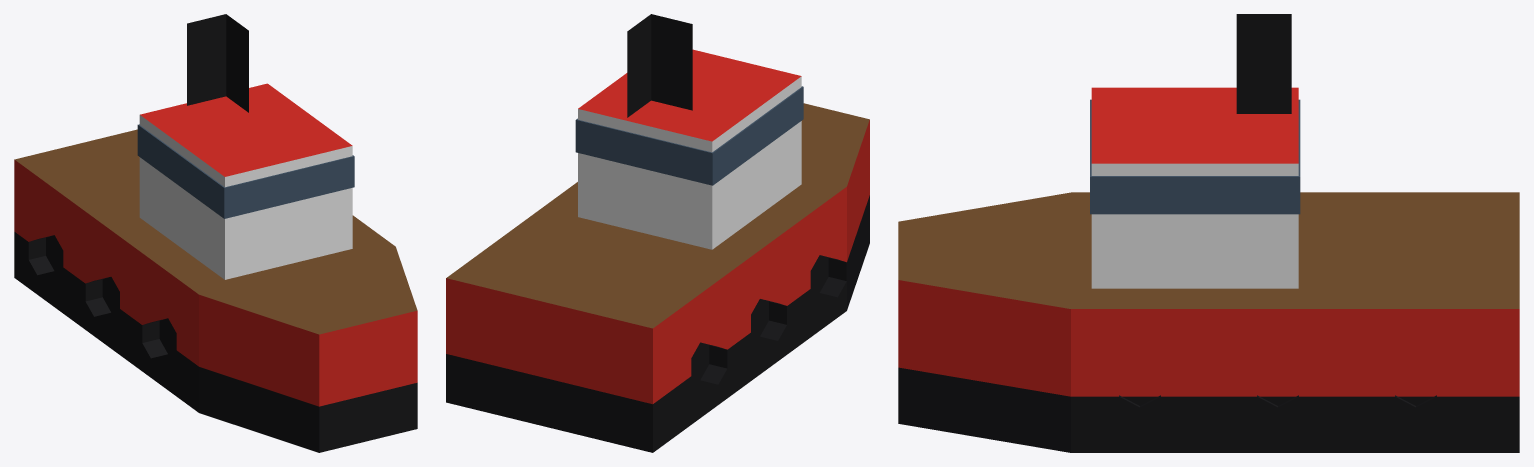
The model's file is remolcador.obj.
3 views of the same model, side by side, from view 1: azimuth 30°, elevation 25°; view 2: azimuth 150°, elevation 25°; view 3: azimuth 270°, elevation 25° (orthographic). The views are drawn at different scales.
Parts seen in each view (by area): view 1: remolcador; view 2: remolcador; view 3: remolcador.
Part boxes in pixels (x1=…): remolcador: x1=14, y1=14, x2=417, y2=452; remolcador: x1=446, y1=14, x2=869, y2=452; remolcador: x1=898, y1=14, x2=1519, y2=452.
Bounding box in the file's own units: 4.45 × 5.9 × 9.
